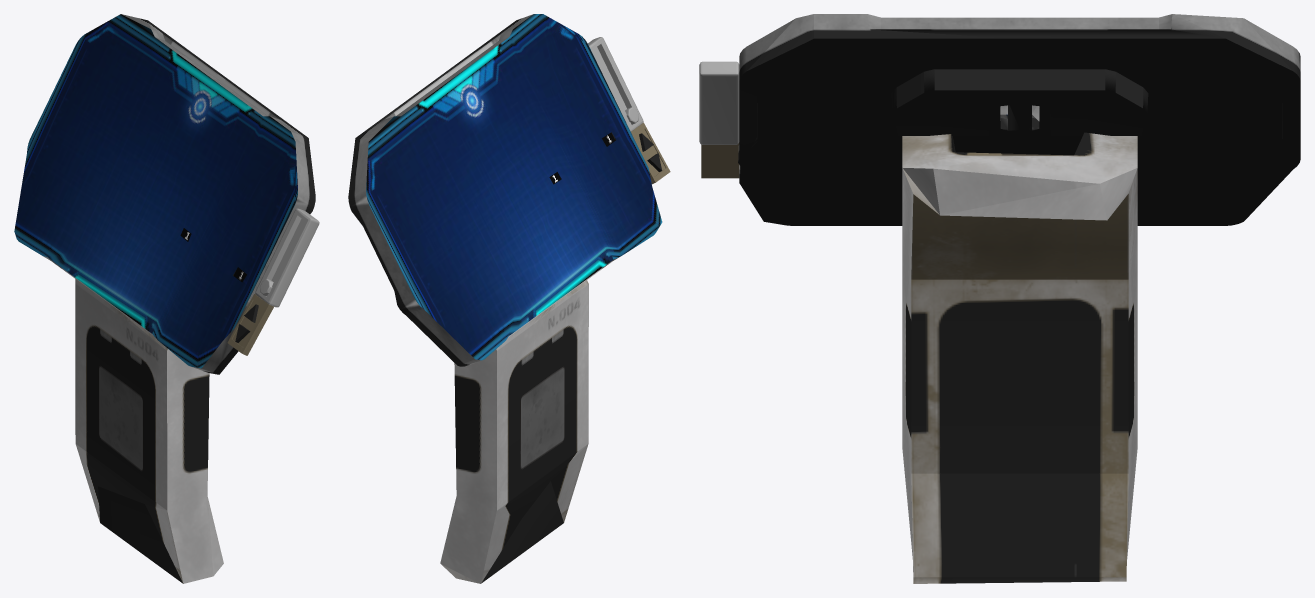
File: screen1.fbx
The picture shows the model from 3 angles, left to right: view 1: azimuth 30°, elevation 25°; view 2: azimuth 150°, elevation 25°; view 3: azimuth 270°, elevation 25°; orthographic projection. The views are drawn at different scales.
Visible parts, largest first — view 1: screen_low1, box (×2); view 2: screen_low1, box (×2); view 3: screen_low1, box (×2).
Part boxes in pixels (left/top/right/bottom): screen_low1: left=14, top=14, right=315, bottom=583; box (×2): left=227, top=208, right=319, bottom=355; screen_low1: left=348, top=14, right=662, bottom=583; box (×2): left=587, top=37, right=670, bottom=184; screen_low1: left=738, top=14, right=1300, bottom=583; box (×2): left=699, top=61, right=739, bottom=178.
Bounding box in the file's own units: 205 × 525 × 480.
Materials: 5 (3 with a texture image).
